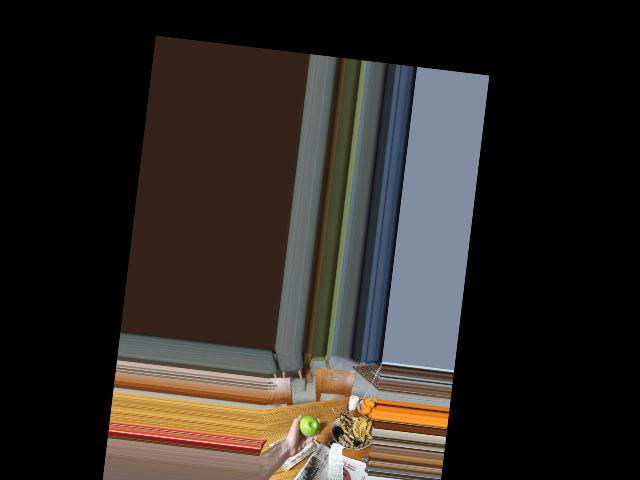apple: (295, 410, 322, 440)
